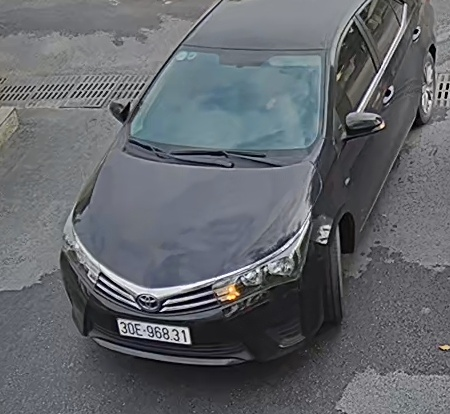vehicle plate: (112, 314, 193, 349)
